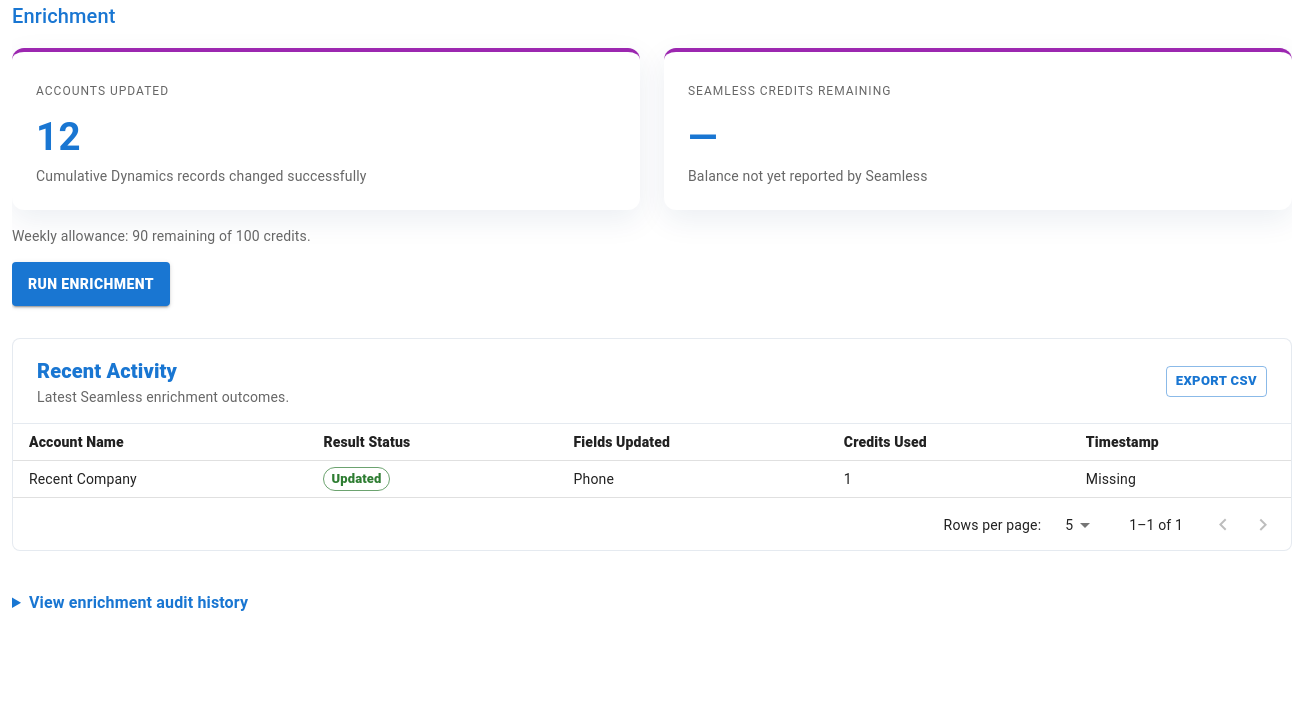
reports enrichment failure and re-enables the action
Click the button "Run Enrichment" at (91, 284), box 12,262 -> 170,306
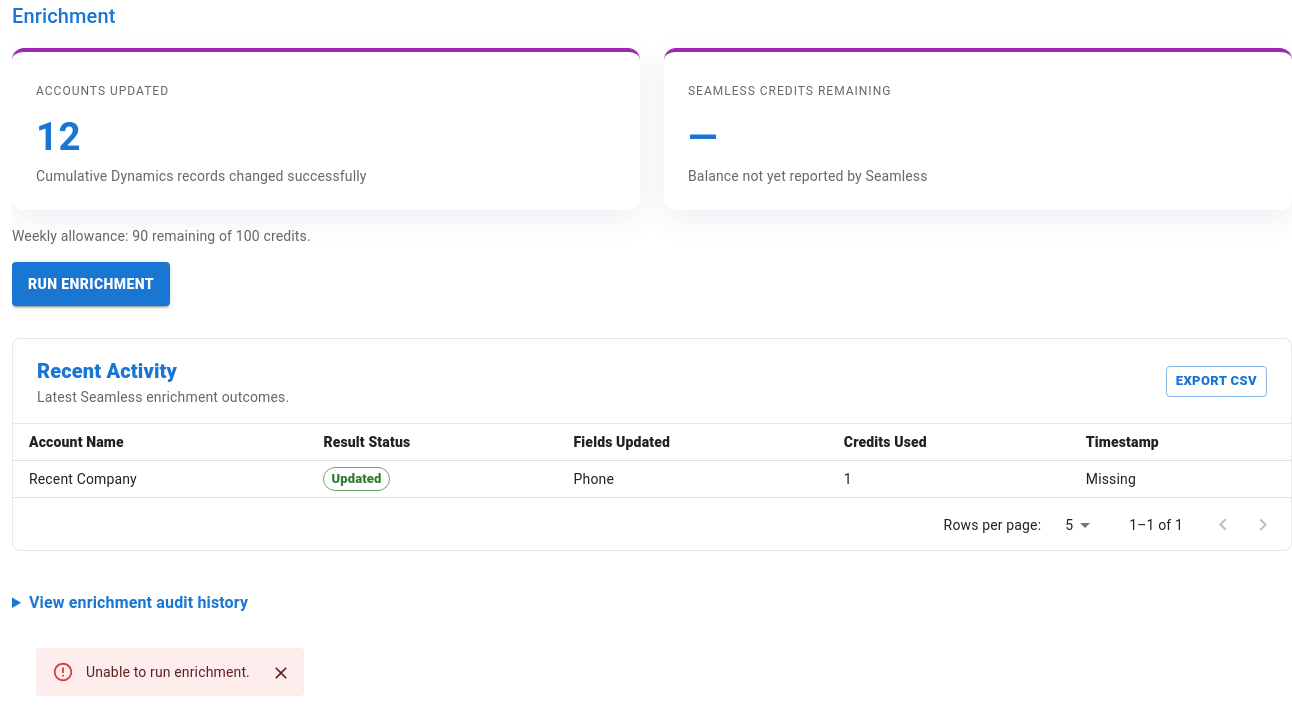
Result: the text "Unable to run enrichment." is shown at 86,664 -> 250,680
